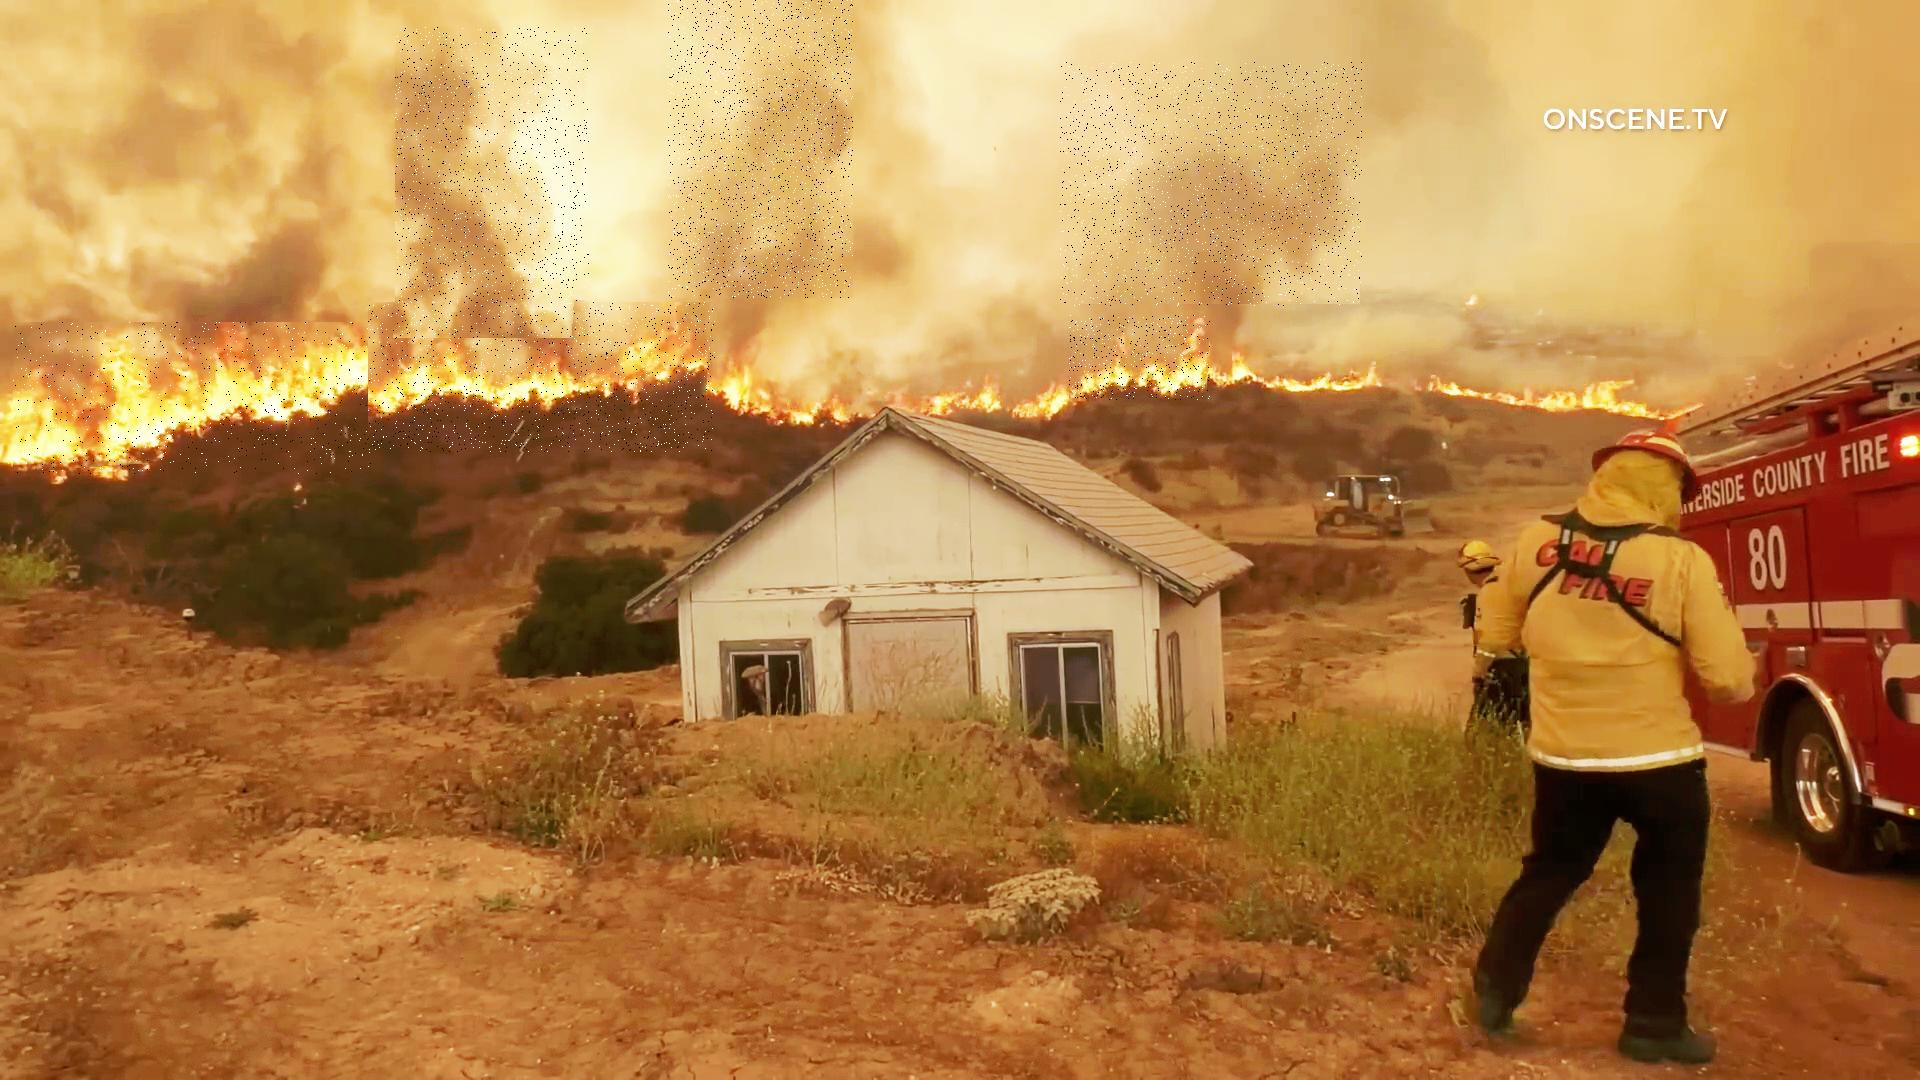fire: (13, 323, 371, 475), (369, 303, 716, 452), (1069, 315, 1211, 401)
smoke: (1062, 63, 1364, 307), (396, 28, 589, 340), (669, 0, 853, 298)
